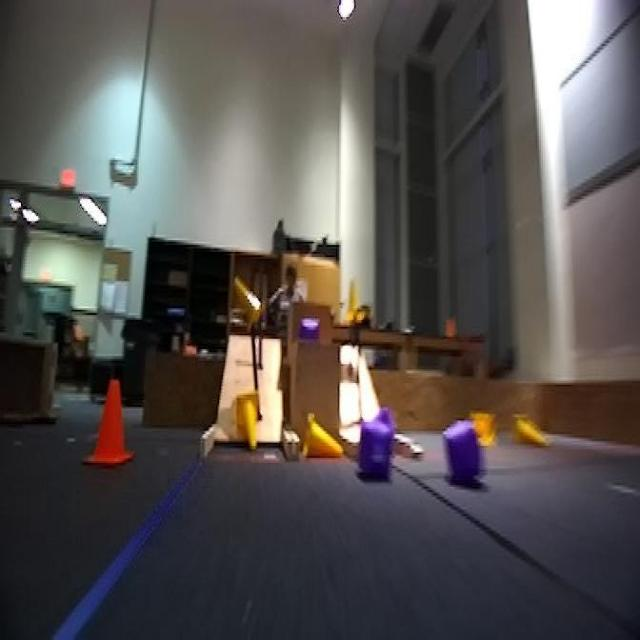frc_cone: (228, 272, 264, 334), (233, 390, 263, 454), (306, 413, 343, 458), (509, 412, 548, 453), (457, 408, 492, 436), (348, 281, 366, 327)
frc_cube: (358, 426, 389, 476), (446, 432, 475, 483), (297, 324, 322, 342)
